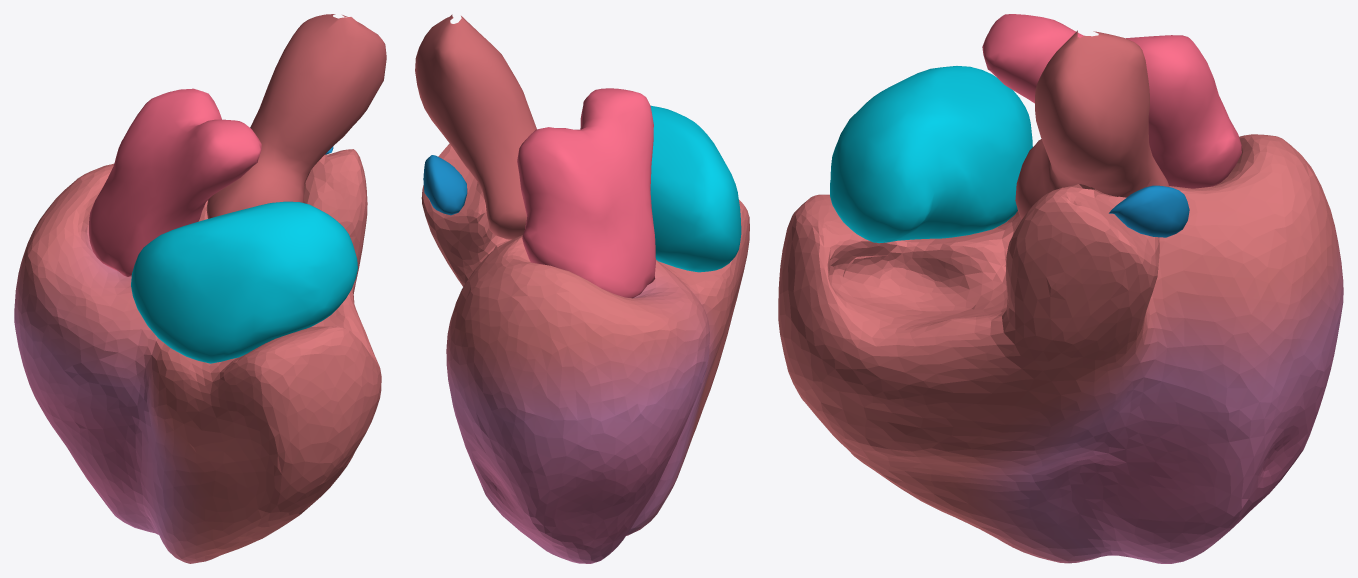
File: frame_57.glb
3 views of the same model, side by side, from view 1: azimuth 30°, elevation 25°; view 2: azimuth 150°, elevation 25°; view 3: azimuth 270°, elevation 25° (orthographic). The views are drawn at different scales.
Parts seen in each view (by area): view 1: Renderer Node; view 2: Renderer Node; view 3: Renderer Node.
Part boxes in pixels (left/top/right/bottom): Renderer Node: left=14, top=14, right=386, bottom=563; Renderer Node: left=415, top=14, right=749, bottom=563; Renderer Node: left=778, top=14, right=1343, bottom=563.
Size of the model in its own units: 103 by 157 by 128.
